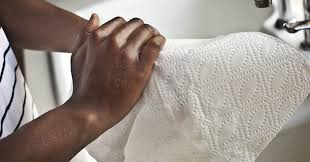no-gloves: (70, 13, 166, 114)
